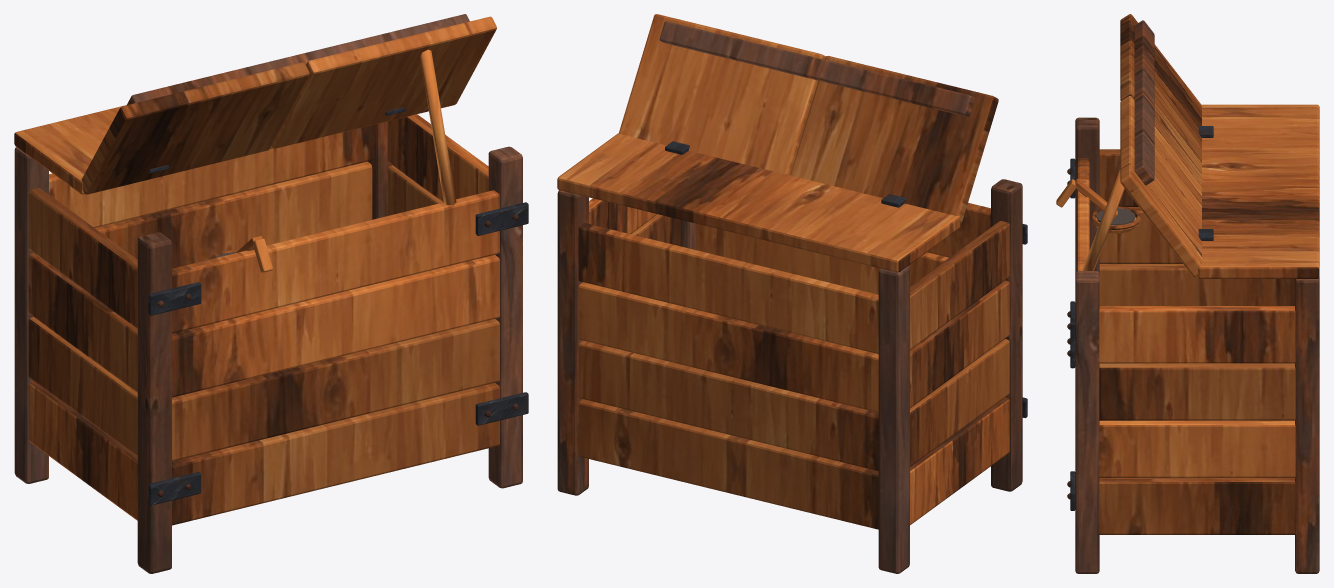
Rendered from mg_grain_bin.glb.
3 views of the same model, side by side, from view 1: azimuth 30°, elevation 25°; view 2: azimuth 150°, elevation 25°; view 3: azimuth 270°, elevation 25° (orthographic). The views are drawn at different scales.
Visible parts, largest first — view 1: model; view 2: model; view 3: model.
Part boxes in pixels (x1,y1,x2,y2): model: [14, 14, 528, 573]; model: [557, 14, 1027, 573]; model: [1056, 14, 1319, 573].
Bounding box in the file's own units: 0.96 × 1.09 × 0.6463.
9 materials, 8 textured.
